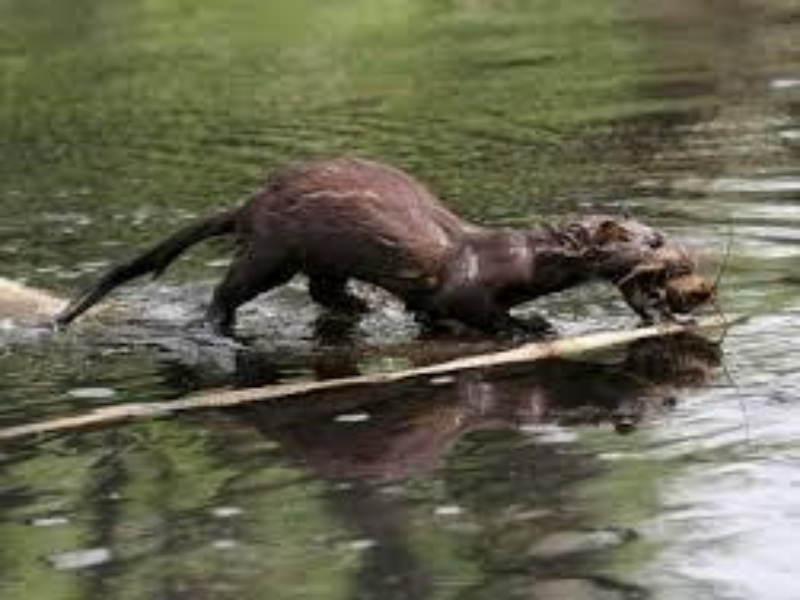minkish: (52, 155, 696, 342)
